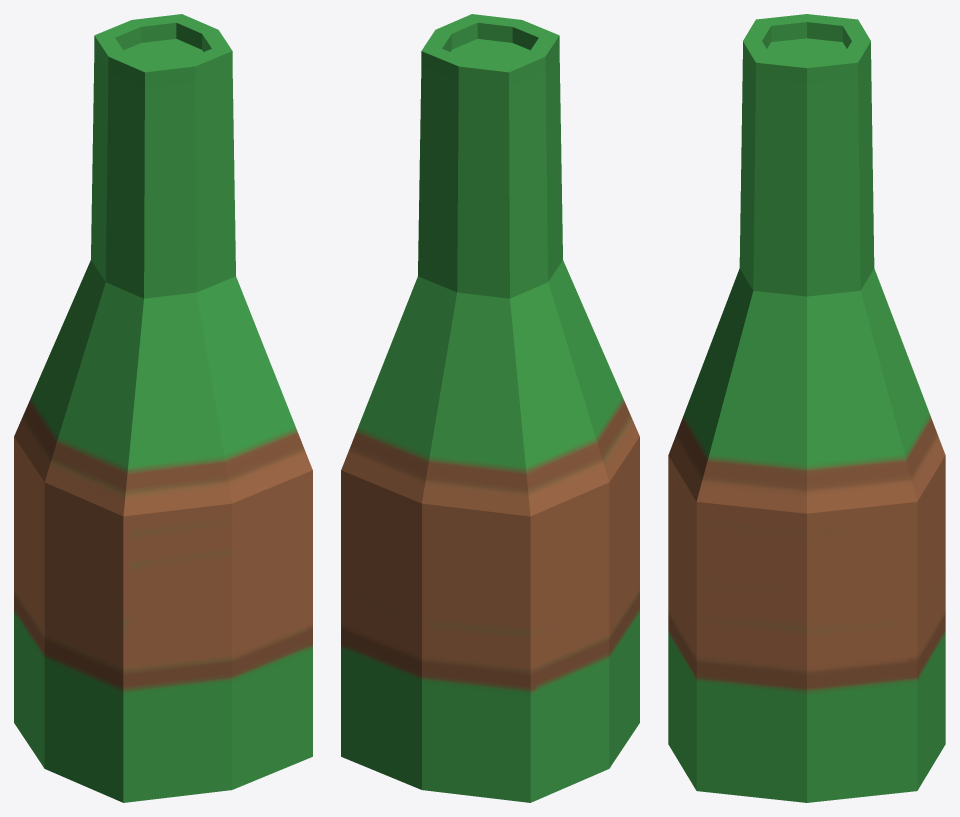
File: BeerBotle.glb
3 renders of one model, left to right at view 1: azimuth 30°, elevation 25°; view 2: azimuth 150°, elevation 25°; view 3: azimuth 270°, elevation 25°, orthographic.
Visible parts, largest first — view 1: Plane; view 2: Plane; view 3: Plane.
Boxes of the visible parts, x1,y1,x2,y2 form: Plane: [14, 14, 312, 802]; Plane: [341, 14, 639, 802]; Plane: [668, 14, 945, 802].
Size of the model in its own units: 2.51 by 7.03 by 2.51.
Materials: 1 (1 with a texture image).
